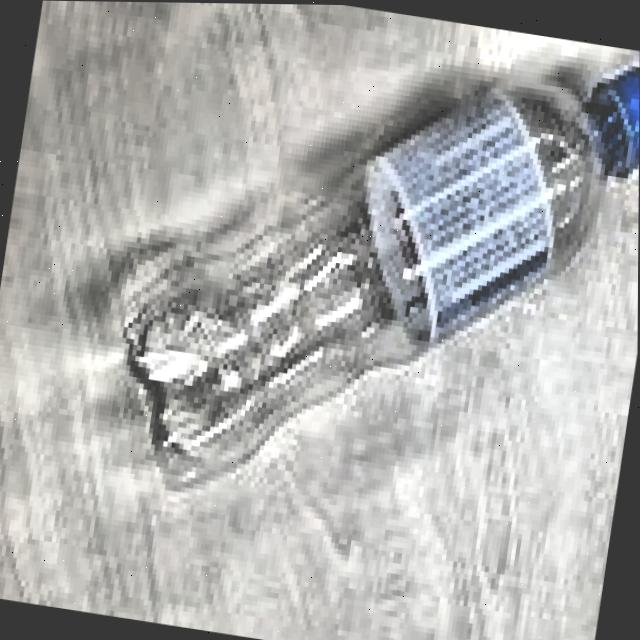plastic: (74, 1, 640, 545)
